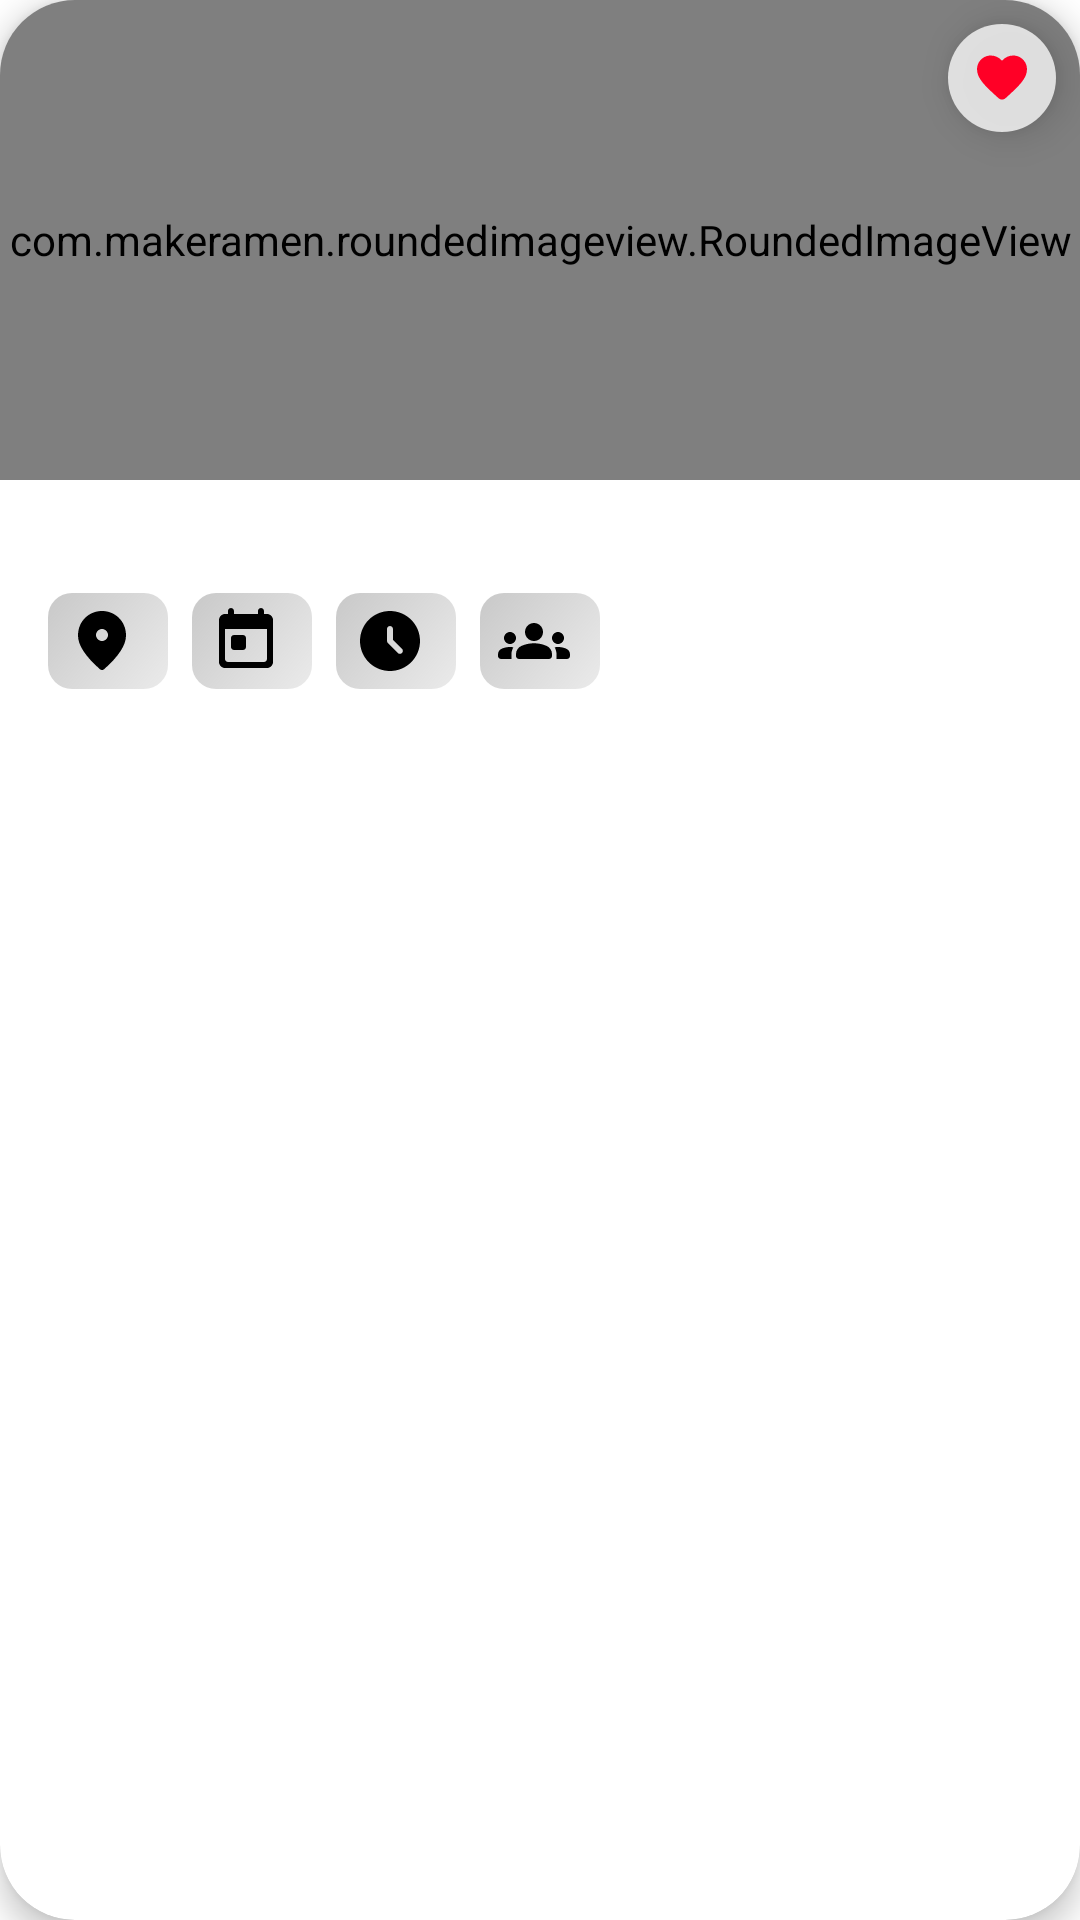

Point at icon controls on the screen. Image size 1080w x 1920h, points as (x,y).
favorite: (1002,77)
